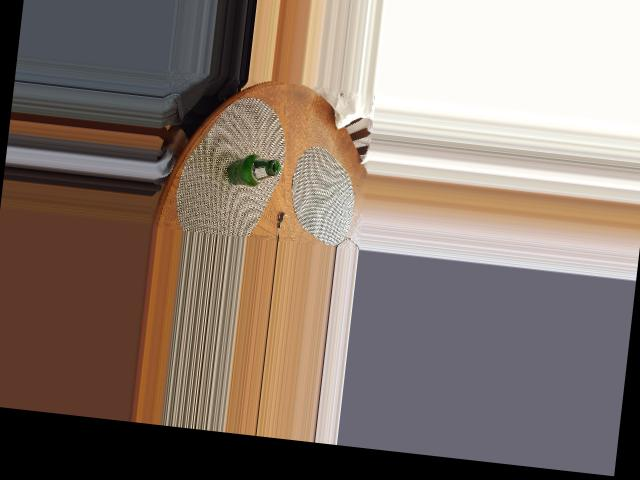beer: (225, 150, 281, 188)
